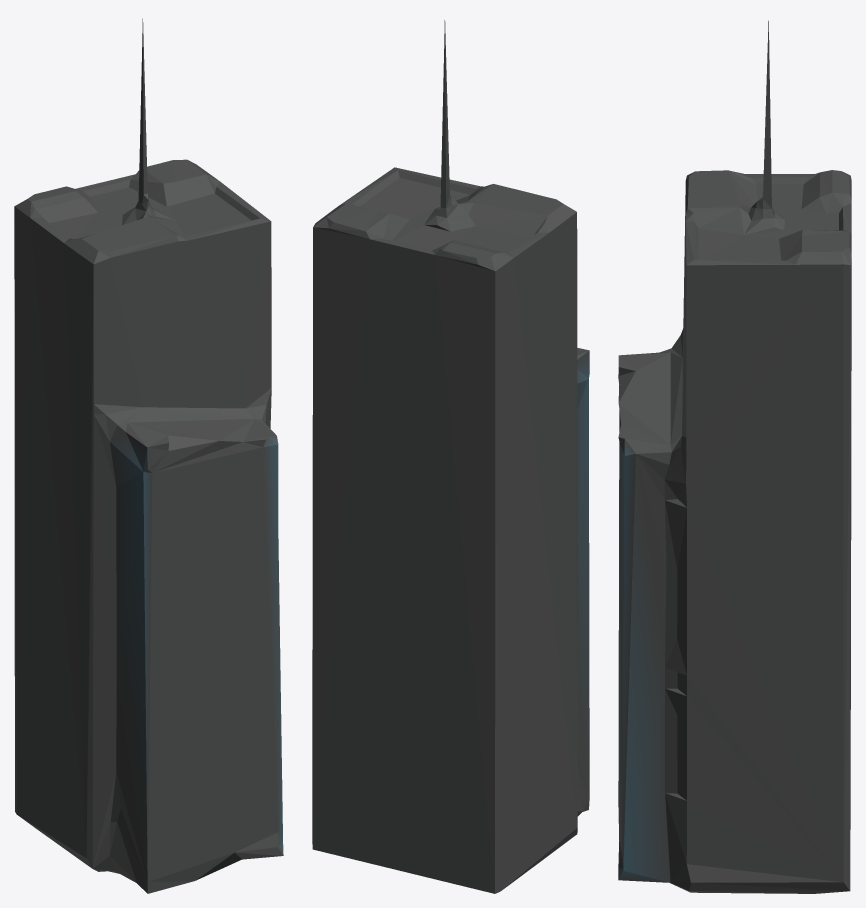
The model's file is Skyscrapers.glb.
The picture shows the model from 3 angles, left to right: view 1: azimuth 30°, elevation 25°; view 2: azimuth 150°, elevation 25°; view 3: azimuth 270°, elevation 25°; orthographic projection. The views are drawn at different scales.
Parts seen in each view (by area): view 1: Root; view 2: Root; view 3: Root.
Boxes of the visible parts, <box> form: Root: <box>14,18,283,893</box>; Root: <box>312,20,589,893</box>; Root: <box>618,20,851,893</box>.
Bounding box in the file's own units: 6.43 × 26.85 × 6.79.
